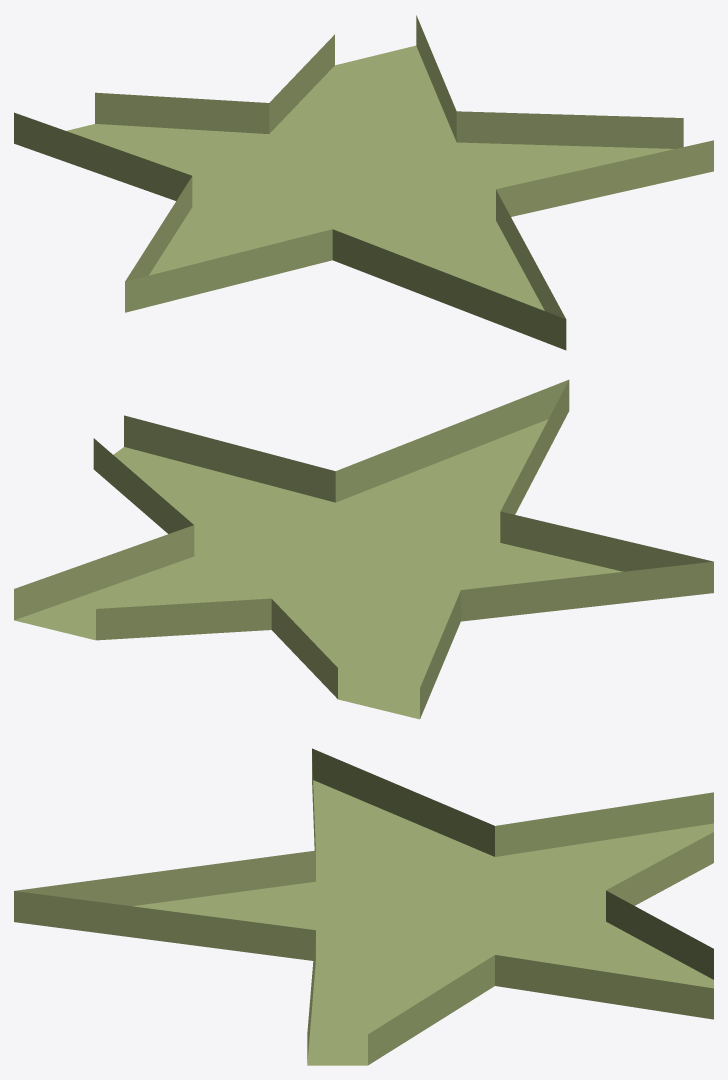
File: cowodiaoding.fbx
3 views of the same model, one above another, from view 1: azimuth 30°, elevation 25°; view 2: azimuth 150°, elevation 25°; view 3: azimuth 270°, elevation 25° (orthographic).
Parts seen in each view (by area): view 1: cowodiaoding; view 2: cowodiaoding; view 3: cowodiaoding.
Boxes of the visible parts, x1=… form: cowodiaoding: x1=14, y1=15, x2=713, y2=350; cowodiaoding: x1=14, y1=379, x2=713, y2=719; cowodiaoding: x1=14, y1=748, x2=713, y2=1065.
Size of the model in its own units: 296 by 15 by 306.
